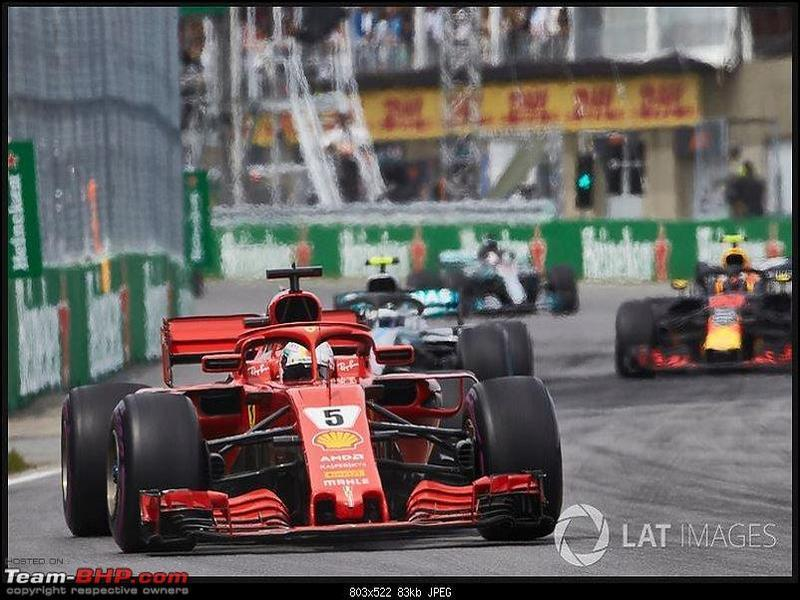f1: (56, 259, 631, 564), (337, 240, 544, 411), (608, 231, 796, 385)
